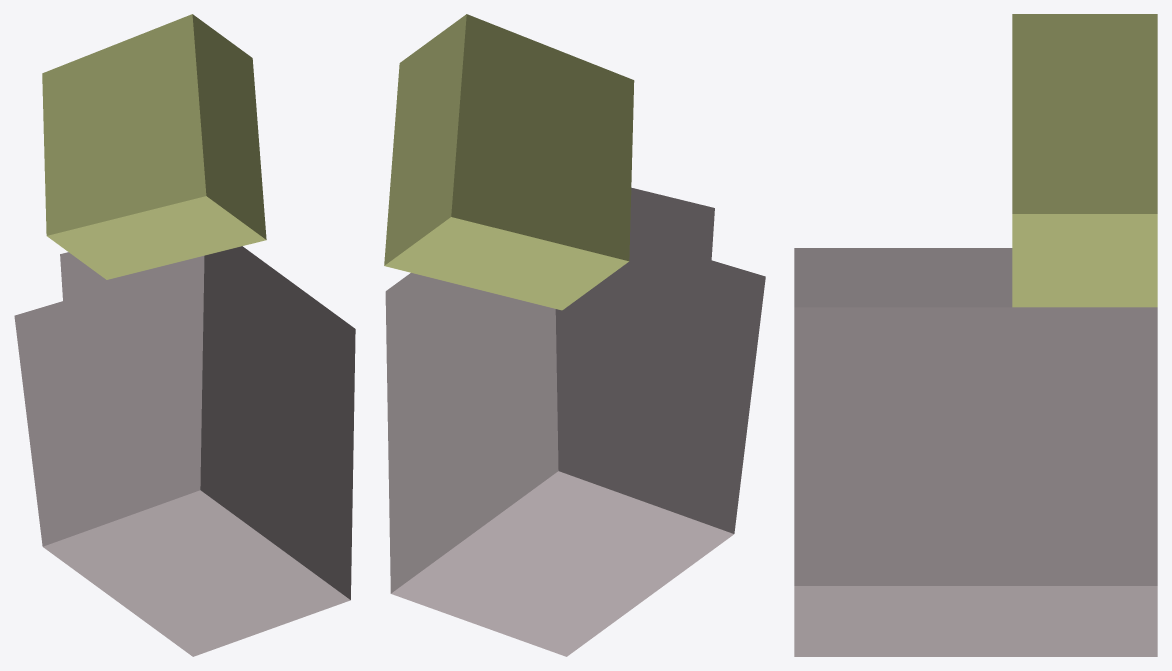
3 renders of one model, left to right at view 1: azimuth 30°, elevation 25°; view 2: azimuth 150°, elevation 25°; view 3: azimuth 270°, elevation 25°, orthographic. The views are drawn at different scales.
Parts seen in each view (by area): view 1: 0_3_0_1_2_1_1_3_2_0; view 2: 0_3_0_1_2_1_1_3_2_0; view 3: 0_3_0_1_2_1_1_3_2_0.
Part boxes in pixels (x1,y1,x2,y2): 0_3_0_1_2_1_1_3_2_0: (14, 14, 355, 656); 0_3_0_1_2_1_1_3_2_0: (384, 14, 765, 656); 0_3_0_1_2_1_1_3_2_0: (794, 14, 1157, 656).
Bounding box in the file's own units: 11.05 × 27.29 × 15.
